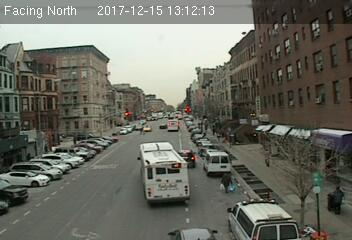bus: (136, 141, 191, 206)
car: (177, 149, 195, 167)
pedestrian: (262, 145, 273, 169), (220, 172, 232, 193)
police: (226, 199, 301, 240)
truck: (203, 151, 232, 176), (166, 119, 179, 131)
